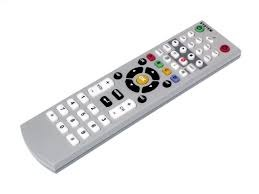remote control: (13, 6, 243, 176)
